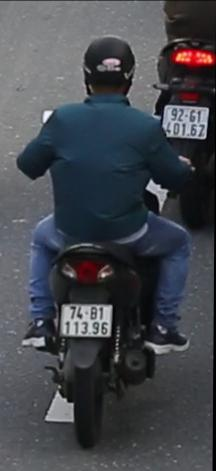LP: (59, 299, 114, 338)
helmet: (82, 30, 139, 106)
